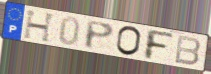0: (57, 16, 83, 48)
B: (173, 34, 202, 67)
F: (144, 28, 175, 62)
H: (22, 9, 58, 44)
O: (115, 26, 143, 58)
P: (84, 19, 116, 51)
